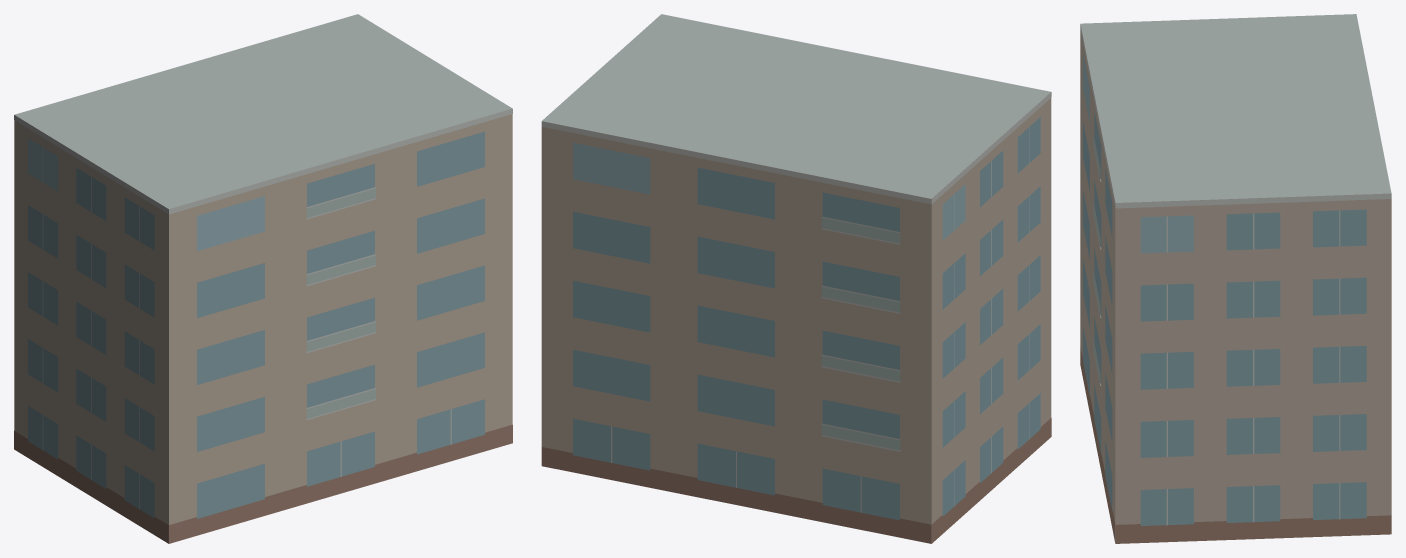
Rendered from survey-upis-32757104.glb.
3 views of the same model, side by side, from view 1: azimuth 30°, elevation 25°; view 2: azimuth 150°, elevation 25°; view 3: azimuth 270°, elevation 25° (orthographic). The views are drawn at different scales.
Visible parts, largest first — view 1: survey-upis-32757104.tmp; view 2: survey-upis-32757104.tmp; view 3: survey-upis-32757104.tmp.
Part boxes in pixels (x1,y1,x2,y2): survey-upis-32757104.tmp: (14,14,512,543); survey-upis-32757104.tmp: (541,14,1051,543); survey-upis-32757104.tmp: (1080,14,1391,543).
Size of the model in its own units: 18.15 by 15.25 by 12.63.
